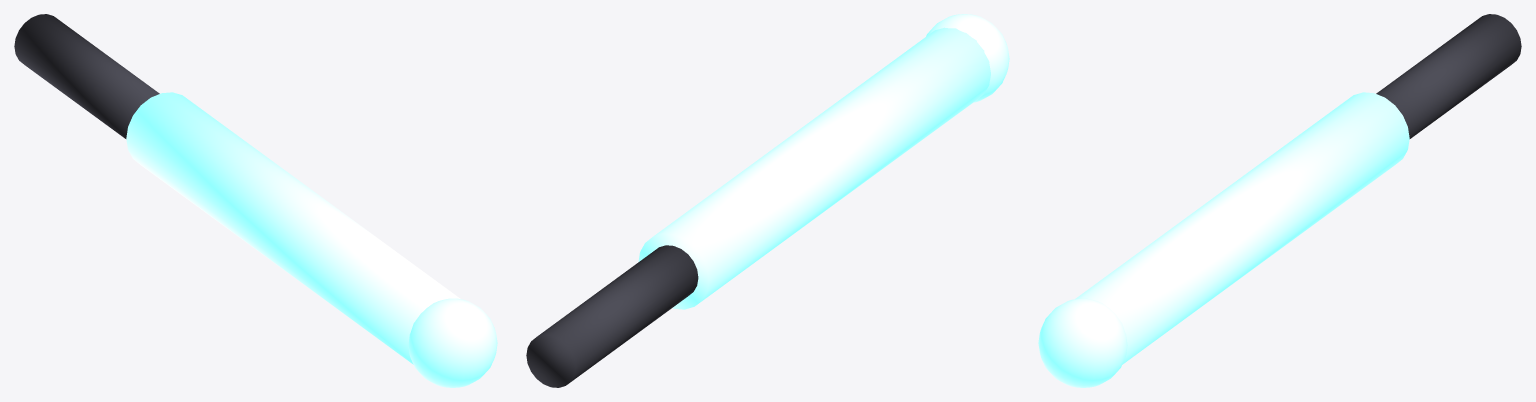
The model's file is lightstick.glb.
3 renders of one model, left to right at view 1: azimuth 30°, elevation 25°; view 2: azimuth 150°, elevation 25°; view 3: azimuth 330°, elevation 25°, orthographic.
Visible parts, largest first — view 1: lightstick; view 2: lightstick; view 3: lightstick.
Part boxes in pixels (x1=…): lightstick: x1=14, y1=14, x2=497, y2=387; lightstick: x1=526, y1=14, x2=1009, y2=387; lightstick: x1=1038, y1=14, x2=1521, y2=387.
Bounding box in the file's own units: 0.044 × 0.044 × 0.427.
